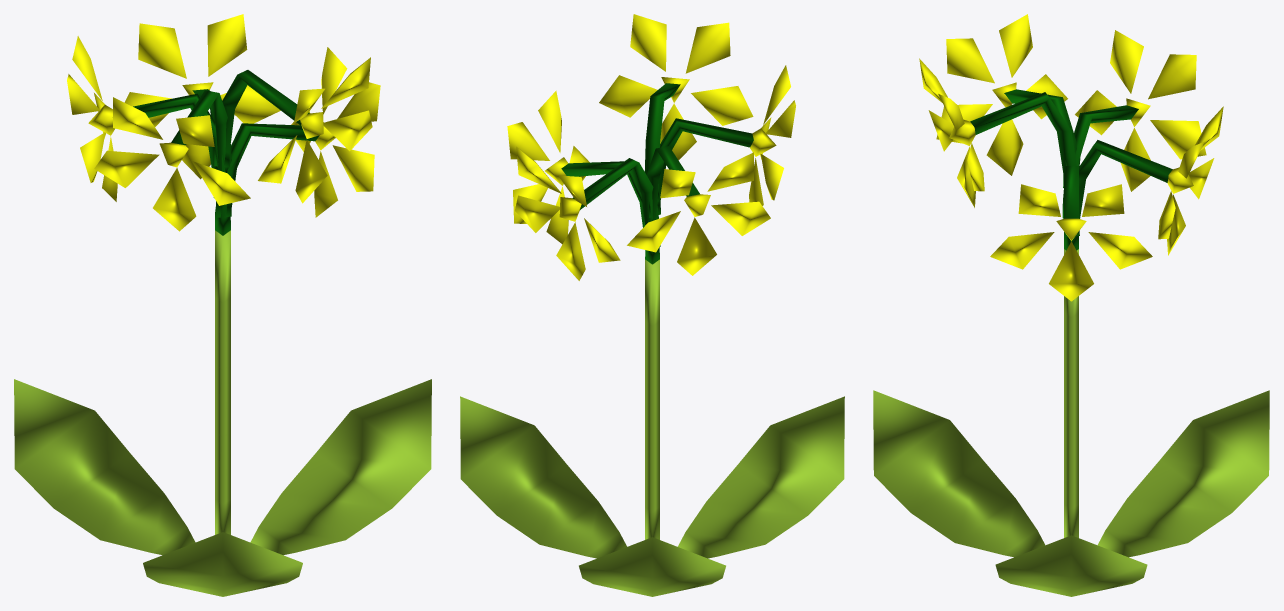
File: primrose_0004.obj
3 renders of one model, left to right at view 1: azimuth 30°, elevation 25°; view 2: azimuth 150°, elevation 25°; view 3: azimuth 270°, elevation 25°, orthographic. The views are drawn at different scales.
Visible parts, largest first — view 1: primrose_0004; view 2: primrose_0004; view 3: primrose_0004.
Part boxes in pixels (x1,y1,x2,y2): primrose_0004: [14, 14, 431, 596]; primrose_0004: [460, 14, 844, 596]; primrose_0004: [873, 14, 1269, 596].
Size of the model in its own units: 2.2 by 3.2 by 2.26.
Materials: 1 (1 with a texture image).
